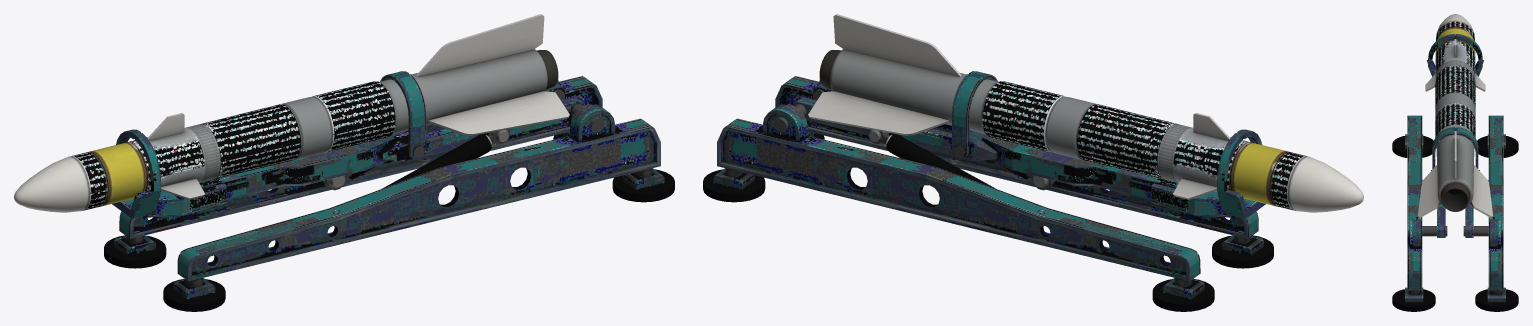
The picture shows the model from 3 angles, left to right: view 1: azimuth 30°, elevation 25°; view 2: azimuth 150°, elevation 25°; view 3: azimuth 270°, elevation 25°; orthographic projection. The views are drawn at different scales.
Visible parts, largest first — view 1: body0_model0_lod0_mesh1, body0_model0_lod0_mesh0; view 2: body0_model0_lod0_mesh1, body0_model0_lod0_mesh0; view 3: body0_model0_lod0_mesh1, body0_model0_lod0_mesh0.
Boxes of the visible parts, x1,y1,x2,y2 form: body0_model0_lod0_mesh1: (104, 71, 674, 311); body0_model0_lod0_mesh0: (14, 14, 569, 212); body0_model0_lod0_mesh1: (703, 71, 1273, 311); body0_model0_lod0_mesh0: (808, 14, 1363, 212); body0_model0_lod0_mesh1: (1392, 34, 1518, 311); body0_model0_lod0_mesh0: (1417, 14, 1493, 217).
Bounding box in the file's own units: 539 × 140 × 135.
2 materials, 2 textured.
